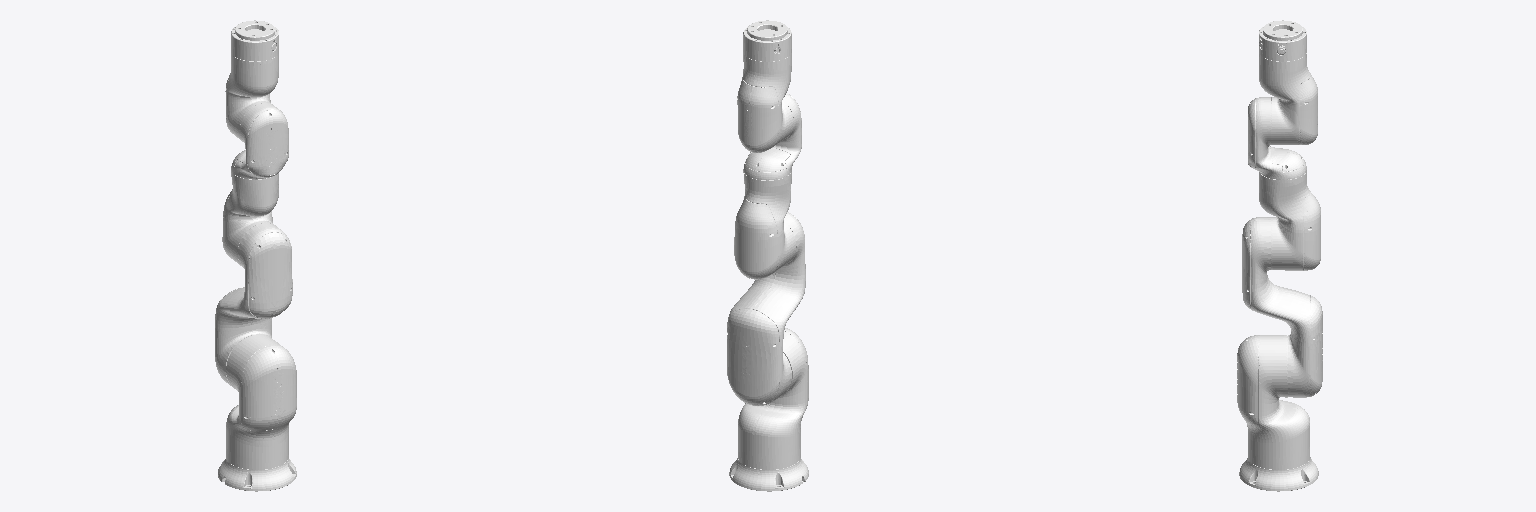
The robot description file, URDF, robot "Mini2":
<?xml version="1.0" ?>
<robot name="Mini2" version="1.0">
   <link name="base_link">
      <inertial>
         <origin xyz="0.00018021 -7.7645e-06 0.013095" rpy="0.0 0.0 0.0"/>
         <mass value="0.28093"/>
         <inertia ixx="0.00024785" ixy="-1.6069e-09" ixz="5.2021e-07" iyy="0.0002461" iyz="-2.3227e-08" izz="0.00045567"/>
      </inertial>
      <visual>
         <origin xyz="0.0 0.0 0.0" rpy="0.0 0.0 0.0"/>
         <geometry>
            <mesh filename="package://Mini2/meshes/base_link.STL"/>
         </geometry>
         <material name="">
            <color rgba="1.0 1.0 1.0 1.0"/>
         </material>
      </visual>
      <collision>
         <origin xyz="0.0 0.0 0.0" rpy="0.0 0.0 0.0"/>
         <geometry>
            <mesh filename="package://Mini2/meshes/base_link.STL"/>
         </geometry>
      </collision>
   </link>
   <link name="1_Link">
      <inertial>
         <origin xyz="0.00022098 -0.013411 0.097344" rpy="0.0 0.0 0.0"/>
         <mass value="1.3529"/>
         <inertia ixx="0.0055002" ixy="1.5803e-06" ixz="-1.182e-05" iyy="0.0054322" iyz="0.00069151" izz="0.0016731"/>
      </inertial>
      <visual>
         <origin xyz="0.0 0.0 0.0" rpy="0.0 0.0 0.0"/>
         <geometry>
            <mesh filename="package://Mini2/meshes/1_Link.STL"/>
         </geometry>
         <material name="">
            <color rgba="1.0 1.0 1.0 1.0"/>
         </material>
      </visual>
      <collision>
         <origin xyz="0.0 0.0 0.0" rpy="0.0 0.0 0.0"/>
         <geometry>
            <mesh filename="package://Mini2/meshes/1_Link.STL"/>
         </geometry>
      </collision>
   </link>
   <joint name="1_joint" type="revolute">
      <origin xyz="0.0 0.0 0.0278" rpy="0.0 0.0 0.0"/>
      <axis xyz="0.0 0.0 -1.0"/>
      <parent link="base_link"/>
      <child link="1_Link"/>
      <limit effort="10.0" lower="-6.2832" upper="6.2832" velocity="3.1416"/>
   </joint>
   <link name="2_Link">
      <inertial>
         <origin xyz="0.0905583169157203 -2.55226272042105e-05 0.00606678590030608" rpy="0.0 0.0 0.0"/>
         <mass value="1.13763168278175"/>
         <inertia ixx="0.00215015112517415" ixy="-2.036750088694e-06" ixz="-0.00254396818621707" iyy="0.00820269535958294" iyz="-9.88247617910637e-07" izz="0.00725417648761589"/>
      </inertial>
      <visual>
         <origin xyz="0.0 0.0 0.0" rpy="0.0 0.0 0.0"/>
         <geometry>
            <mesh filename="package://Mini2/meshes/2_Link.STL"/>
         </geometry>
         <material name="">
            <color rgba="1.0 1.0 1.0 1.0"/>
         </material>
      </visual>
      <collision>
         <origin xyz="0.0 0.0 0.0" rpy="0.0 0.0 0.0"/>
         <geometry>
            <mesh filename="package://Mini2/meshes/2_Link.STL"/>
         </geometry>
      </collision>
   </link>
   <joint name="2_joint" type="revolute">
      <origin xyz="-0.00027519 0.016498 0.159" rpy="1.5541 -1.5708 0.0"/>
      <axis xyz="0.0 0.0 1.0"/>
      <parent link="1_Link"/>
      <child link="2_Link"/>
      <limit effort="10.0" lower="-2.0944" upper="2.0944" velocity="3.1416"/>
   </joint>
   <link name="3_Link">
      <inertial>
         <origin xyz="4.11106365322683e-05 -0.0421847129588264 0.0339847052350974" rpy="0.0 0.0 0.0"/>
         <mass value="0.811073594835725"/>
         <inertia ixx="0.0022134286768224" ixy="-1.57218738662767e-06" ixz="8.87307794874241e-07" iyy="0.000702584119444711" iyz="-0.000224935963904111" izz="0.00211728816376388"/>
      </inertial>
      <visual>
         <origin xyz="0.0 0.0 0.0" rpy="0.0 0.0 0.0"/>
         <geometry>
            <mesh filename="package://Mini2/meshes/3_Link.STL"/>
         </geometry>
         <material name="">
            <color rgba="1.0 1.0 1.0 1.0"/>
         </material>
      </visual>
      <collision>
         <origin xyz="0.0 0.0 0.0" rpy="0.0 0.0 0.0"/>
         <geometry>
            <mesh filename="package://Mini2/meshes/3_Link.STL"/>
         </geometry>
      </collision>
   </link>
   <joint name="3_joint" type="revolute">
      <origin xyz="0.21 0.0 0.032" rpy="-3.1416 0.0 -1.5708"/>
      <axis xyz="0.0 0.0 -1.0"/>
      <parent link="2_Link"/>
      <child link="3_Link"/>
      <limit effort="10.0" lower="-2.1816" upper="2.1816" velocity="3.1416"/>
   </joint>
   <link name="4_Link">
      <inertial>
         <origin xyz="-0.00043559 0.025939 0.045272" rpy="0.0 0.0 0.0"/>
         <mass value="0.30891"/>
         <inertia ixx="0.00048581" ixy="3.2945e-07" ixz="1.8297e-06" iyy="0.0004663" iyz="-0.00011074" izz="0.00023489"/>
      </inertial>
      <visual>
         <origin xyz="0.0 0.0 0.0" rpy="0.0 0.0 0.0"/>
         <geometry>
            <mesh filename="package://Mini2/meshes/4_Link.STL"/>
         </geometry>
         <material name="">
            <color rgba="1.0 1.0 1.0 1.0"/>
         </material>
      </visual>
      <collision>
         <origin xyz="0.0 0.0 0.0" rpy="0.0 0.0 0.0"/>
         <geometry>
            <mesh filename="package://Mini2/meshes/4_Link.STL"/>
         </geometry>
      </collision>
   </link>
   <joint name="4_joint" type="revolute">
      <origin xyz="0.0 -0.1303 0.0215" rpy="-1.5708 -0.016679 3.1416"/>
      <axis xyz="0.0 0.0 -1.0"/>
      <parent link="3_Link"/>
      <child link="4_Link"/>
      <limit effort="10.0" lower="-6.2832" upper="6.2832" velocity="3.1416"/>
   </joint>
   <link name="5_Link">
      <inertial>
         <origin xyz="1.114e-06 -0.044544 0.031299" rpy="0.0 0.0 0.0"/>
         <mass value="0.69161"/>
         <inertia ixx="0.0016775" ixy="1.4772e-07" ixz="-2.7701e-08" iyy="0.00053632" iyz="-0.00016462" izz="0.001608"/>
      </inertial>
      <visual>
         <origin xyz="0.0 0.0 0.0" rpy="0.0 0.0 0.0"/>
         <geometry>
            <mesh filename="package://Mini2/meshes/5_Link.STL"/>
         </geometry>
         <material name="">
            <color rgba="1.0 1.0 1.0 1.0"/>
         </material>
      </visual>
      <collision>
         <origin xyz="0.0 0.0 0.0" rpy="0.0 0.0 0.0"/>
         <geometry>
            <mesh filename="package://Mini2/meshes/5_Link.STL"/>
         </geometry>
      </collision>
   </link>
   <joint name="5_joint" type="revolute">
      <origin xyz="-0.00035108 0.021047 0.0802" rpy="-1.5708 0.0 -3.1249"/>
      <axis xyz="0.0 0.0 -1.0"/>
      <parent link="4_Link"/>
      <child link="5_Link"/>
      <limit effort="10.0" lower="-2.0944" upper="2.0944" velocity="3.1416"/>
   </joint>
   <link name="6_Link">
      <inertial>
         <origin xyz="-2.1542e-05 3.5464e-05 -0.012293" rpy="0.0 0.0 0.0"/>
         <mass value="0.14776"/>
         <inertia ixx="6.7699e-05" ixy="-7.6732e-07" ixz="-1.213e-07" iyy="6.6856e-05" iyz="-2.2354e-09" izz="0.00010394"/>
      </inertial>
      <visual>
         <origin xyz="0.0 0.0 0.0" rpy="0.0 0.0 0.0"/>
         <geometry>
            <mesh filename="package://Mini2/meshes/6_Link.STL"/>
         </geometry>
         <material name="">
            <color rgba="1.0 1.0 1.0 1.0"/>
         </material>
      </visual>
      <collision>
         <origin xyz="0.0 0.0 0.0" rpy="0.0 0.0 0.0"/>
         <geometry>
            <mesh filename="package://Mini2/meshes/6_Link.STL"/>
         </geometry>
      </collision>
   </link>
   <joint name="6_joint" type="revolute">
      <origin xyz="0.0 -0.1513 0.02105" rpy="-1.5708 -0.016679 3.1416"/>
      <axis xyz="0.0 0.0 -1.0"/>
      <parent link="5_Link"/>
      <child link="6_Link"/>
      <limit effort="10.0" lower="-6.2832" upper="6.2832" velocity="3.1416"/>
   </joint>
   <joint name="joint_base_link_sphere_0" type="fixed">
      <origin xyz="0.0 0.0 0.015" rpy="0 0 0"/>
      <parent link="base_link"/>
      <child link="base_link_0"/>
   </joint>
   <link name="base_link_0">
      <origin xyz="0.0 0.0 0.0" rpy="0.0 0.0 0.0"/>
   </link>
   <joint name="joint_1_Link_sphere_0" type="fixed">
      <origin xyz="0.0 -0.01 0.035" rpy="0 0 0"/>
      <parent link="1_Link"/>
      <child link="1_Link_0"/>
   </joint>
   <link name="1_Link_0">
      <origin xyz="0.0 0.0 0.0" rpy="0.0 0.0 0.0"/>
   </link>
   <joint name="joint_1_Link_sphere_1" type="fixed">
      <origin xyz="0.0 -0.01 0.105" rpy="0 0 0"/>
      <parent link="1_Link"/>
      <child link="1_Link_1"/>
   </joint>
   <link name="1_Link_1">
      <origin xyz="0.0 0.0 0.0" rpy="0.0 0.0 0.0"/>
   </link>
   <joint name="joint_1_Link_sphere_2" type="fixed">
      <origin xyz="0.0 -0.01 0.175" rpy="0 0 0"/>
      <parent link="1_Link"/>
      <child link="1_Link_2"/>
   </joint>
   <link name="1_Link_2">
      <origin xyz="0.0 0.0 0.0" rpy="0.0 0.0 0.0"/>
   </link>
   <joint name="joint_2_Link_sphere_0" type="fixed">
      <origin xyz="-0.02 0.0 0.01" rpy="0 0 0"/>
      <parent link="2_Link"/>
      <child link="2_Link_0"/>
   </joint>
   <link name="2_Link_0">
      <origin xyz="0.0 0.0 0.0" rpy="0.0 0.0 0.0"/>
   </link>
   <joint name="joint_2_Link_sphere_1" type="fixed">
      <origin xyz="0.04 0.0 0.01" rpy="0 0 0"/>
      <parent link="2_Link"/>
      <child link="2_Link_1"/>
   </joint>
   <link name="2_Link_1">
      <origin xyz="0.0 0.0 0.0" rpy="0.0 0.0 0.0"/>
   </link>
   <joint name="joint_2_Link_sphere_2" type="fixed">
      <origin xyz="0.1 0.0 0.01" rpy="0 0 0"/>
      <parent link="2_Link"/>
      <child link="2_Link_2"/>
   </joint>
   <link name="2_Link_2">
      <origin xyz="0.0 0.0 0.0" rpy="0.0 0.0 0.0"/>
   </link>
   <joint name="joint_2_Link_sphere_3" type="fixed">
      <origin xyz="0.16 0.0 0.01" rpy="0 0 0"/>
      <parent link="2_Link"/>
      <child link="2_Link_3"/>
   </joint>
   <link name="2_Link_3">
      <origin xyz="0.0 0.0 0.0" rpy="0.0 0.0 0.0"/>
   </link>
   <joint name="joint_2_Link_sphere_4" type="fixed">
      <origin xyz="0.22 0.0 0.01" rpy="0 0 0"/>
      <parent link="2_Link"/>
      <child link="2_Link_4"/>
   </joint>
   <link name="2_Link_4">
      <origin xyz="0.0 0.0 0.0" rpy="0.0 0.0 0.0"/>
   </link>
   <joint name="joint_3_Link_sphere_0" type="fixed">
      <origin xyz="0.0 -0.105 0.03" rpy="0 0 0"/>
      <parent link="3_Link"/>
      <child link="3_Link_0"/>
   </joint>
   <link name="3_Link_0">
      <origin xyz="0.0 0.0 0.0" rpy="0.0 0.0 0.0"/>
   </link>
   <joint name="joint_3_Link_sphere_1" type="fixed">
      <origin xyz="0.0 -0.06 0.035" rpy="0 0 0"/>
      <parent link="3_Link"/>
      <child link="3_Link_1"/>
   </joint>
   <link name="3_Link_1">
      <origin xyz="0.0 0.0 0.0" rpy="0.0 0.0 0.0"/>
   </link>
   <joint name="joint_3_Link_sphere_2" type="fixed">
      <origin xyz="0.0 -0.015 0.035" rpy="0 0 0"/>
      <parent link="3_Link"/>
      <child link="3_Link_2"/>
   </joint>
   <link name="3_Link_2">
      <origin xyz="0.0 0.0 0.0" rpy="0.0 0.0 0.0"/>
   </link>
   <joint name="joint_4_Link_sphere_0" type="fixed">
      <origin xyz="0.0 0.01 0.025" rpy="0 0 0"/>
      <parent link="4_Link"/>
      <child link="4_Link_0"/>
   </joint>
   <link name="4_Link_0">
      <origin xyz="0.0 0.0 0.0" rpy="0.0 0.0 0.0"/>
   </link>
   <joint name="joint_4_Link_sphere_1" type="fixed">
      <origin xyz="0.0 0.02 0.075" rpy="0 0 0"/>
      <parent link="4_Link"/>
      <child link="4_Link_1"/>
   </joint>
   <link name="4_Link_1">
      <origin xyz="0.0 0.0 0.0" rpy="0.0 0.0 0.0"/>
   </link>
   <joint name="joint_4_Link_sphere_2" type="fixed">
      <origin xyz="0.0 0.02 0.105" rpy="0 0 0"/>
      <parent link="4_Link"/>
      <child link="4_Link_2"/>
   </joint>
   <link name="4_Link_2">
      <origin xyz="0.0 0.0 0.0" rpy="0.0 0.0 0.0"/>
   </link>
   <joint name="joint_5_Link_sphere_0" type="fixed">
      <origin xyz="0.0 -0.1 0.03" rpy="0 0 0"/>
      <parent link="5_Link"/>
      <child link="5_Link_0"/>
   </joint>
   <link name="5_Link_0">
      <origin xyz="0.0 0.0 0.0" rpy="0.0 0.0 0.0"/>
   </link>
   <joint name="joint_5_Link_sphere_1" type="fixed">
      <origin xyz="0.0 -0.06 0.03" rpy="0 0 0"/>
      <parent link="5_Link"/>
      <child link="5_Link_1"/>
   </joint>
   <link name="5_Link_1">
      <origin xyz="0.0 0.0 0.0" rpy="0.0 0.0 0.0"/>
   </link>
   <joint name="joint_5_Link_sphere_2" type="fixed">
      <origin xyz="0.0 -0.02 0.03" rpy="0 0 0"/>
      <parent link="5_Link"/>
      <child link="5_Link_2"/>
   </joint>
   <link name="5_Link_2">
      <origin xyz="0.0 0.0 0.0" rpy="0.0 0.0 0.0"/>
   </link>
   <joint name="joint_6_Link_sphere_0" type="fixed">
      <origin xyz="0.0 0.0 -0.012" rpy="0 0 0"/>
      <parent link="6_Link"/>
      <child link="6_Link_0"/>
   </joint>
   <link name="6_Link_0">
      <origin xyz="0.0 0.0 0.0" rpy="0.0 0.0 0.0"/>
   </link>
</robot>

--- Render facts (derived) ---
3 views of the same robot in one strip: view 1: azimuth 30°, elevation 25°; view 2: azimuth 150°, elevation 25°; view 3: azimuth 270°, elevation 25° (orthographic).
Robot: Mini2 — 26 links, 25 joints (6 revolute, 19 fixed); root link base_link; default pose: every joint at zero.
Links seen in each view (by area): view 1: 1_Link, 2_Link, 4_Link, 3_Link, 5_Link, 6_Link, base_link; view 2: 2_Link, 1_Link, 3_Link, 5_Link, 4_Link, 6_Link, base_link; view 3: 1_Link, 2_Link, 3_Link, 5_Link, 4_Link, 6_Link, base_link.
Link boxes in pixels (x1=…): 1_Link: x1=226, y1=334, x2=296, y2=469; 2_Link: x1=215, y1=223, x2=292, y2=385; 4_Link: x1=231, y1=103, x2=288, y2=179; 3_Link: x1=222, y1=171, x2=278, y2=266; 5_Link: x1=225, y1=53, x2=278, y2=141; 6_Link: x1=231, y1=20, x2=278, y2=61; base_link: x1=218, y1=458, x2=296, y2=491; 2_Link: x1=727, y1=212, x2=805, y2=405; 1_Link: x1=738, y1=328, x2=808, y2=469; 3_Link: x1=734, y1=171, x2=795, y2=279; 5_Link: x1=737, y1=52, x2=793, y2=152; 4_Link: x1=743, y1=93, x2=801, y2=180; 6_Link: x1=743, y1=20, x2=791, y2=61; base_link: x1=729, y1=458, x2=808, y2=491; 1_Link: x1=1237, y1=335, x2=1309, y2=469; 2_Link: x1=1242, y1=217, x2=1322, y2=397; 3_Link: x1=1259, y1=172, x2=1320, y2=270; 5_Link: x1=1259, y1=53, x2=1317, y2=144; 4_Link: x1=1248, y1=97, x2=1306, y2=179; 6_Link: x1=1259, y1=20, x2=1306, y2=61; base_link: x1=1239, y1=457, x2=1318, y2=491.
Size in the robot's own frame: 0.1238 by 0.133 by 0.7668 metres.
Meshes: 7 distinct files referenced, 7 mesh visuals loaded (7 binary STL).
